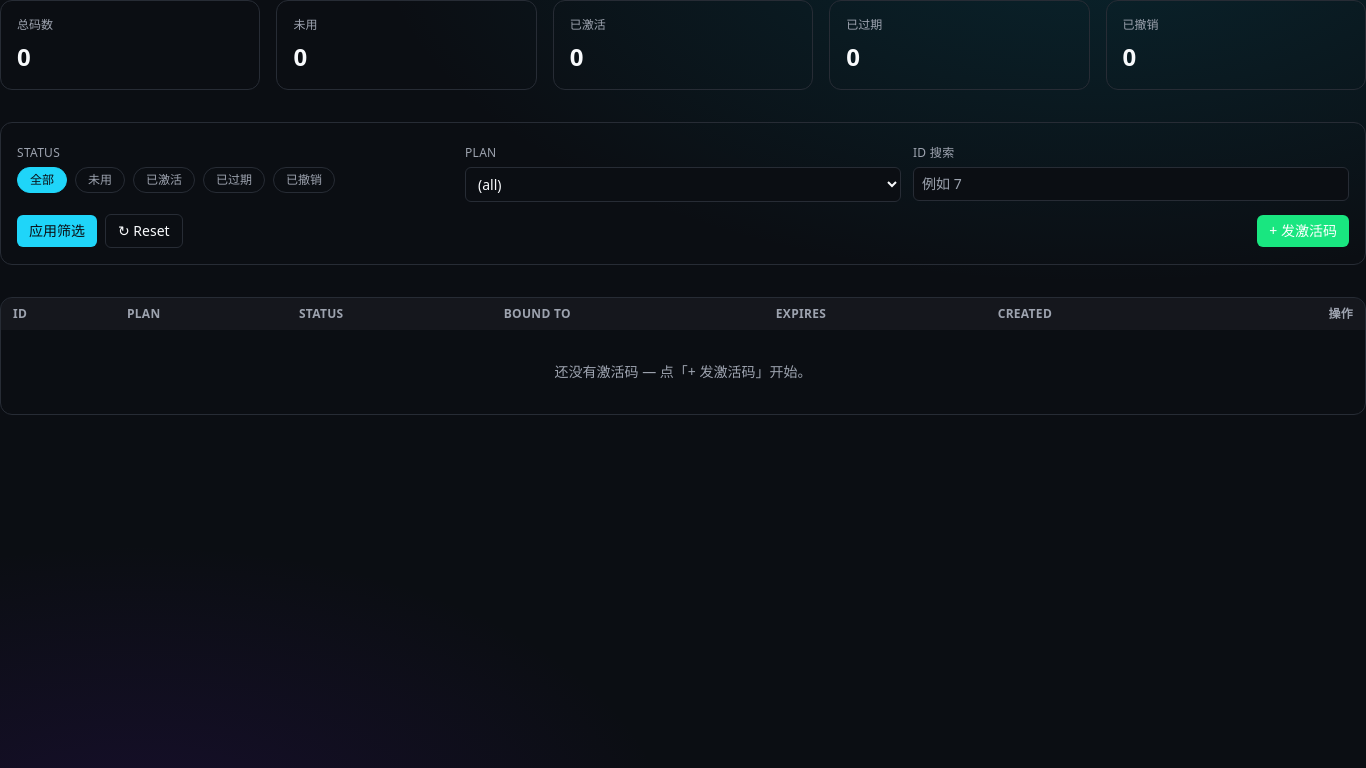
ActivationCodesPanel › Issue modal flow: open, fill form, submit, display returned code + refresh
// Open the modal.
Click the button with test id "btn-issue". click: (1303, 231)
box: top-left (1257, 215), bottom-right (1349, 247)
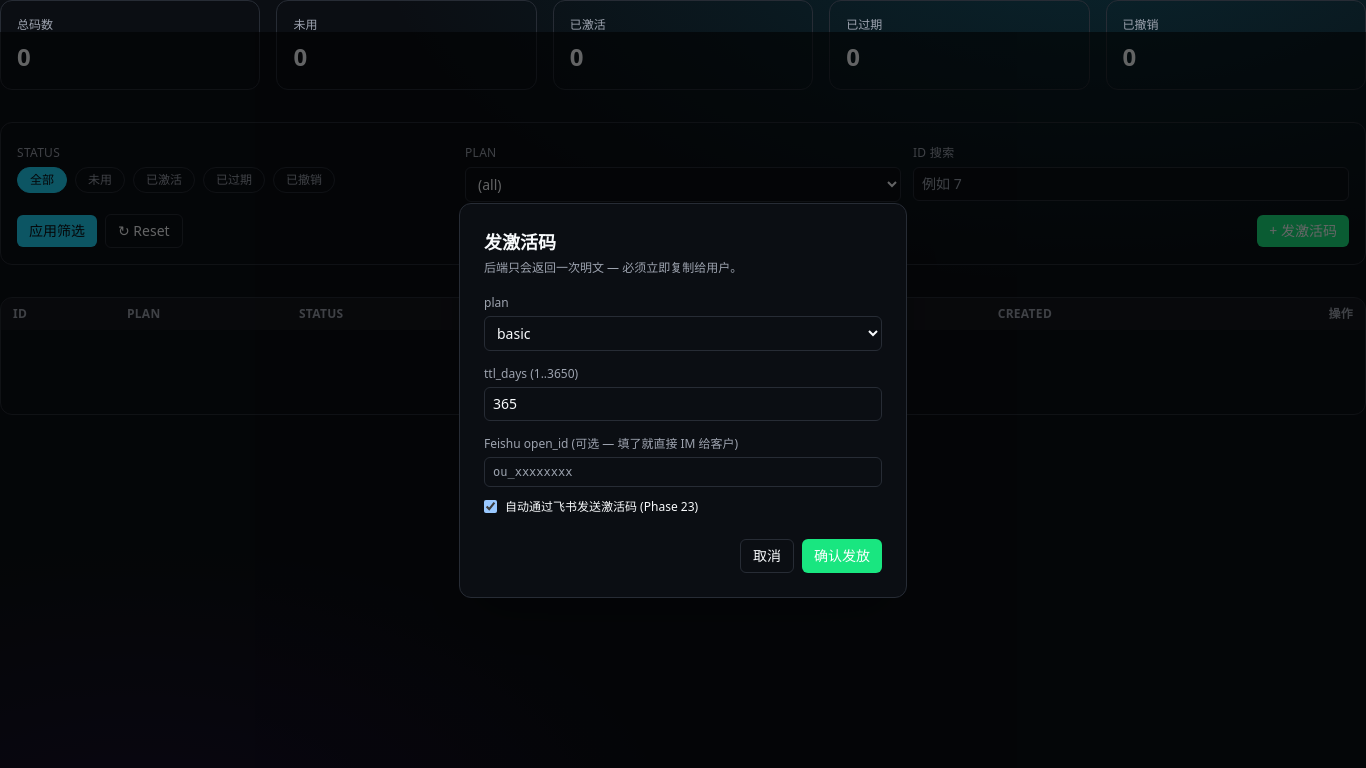
Expected: the dialog with test id "issue-modal" is shown
Select "pro" in the dropdown with test id "issue-plan". click: (683, 333)
box: top-left (484, 316), bottom-right (882, 350)
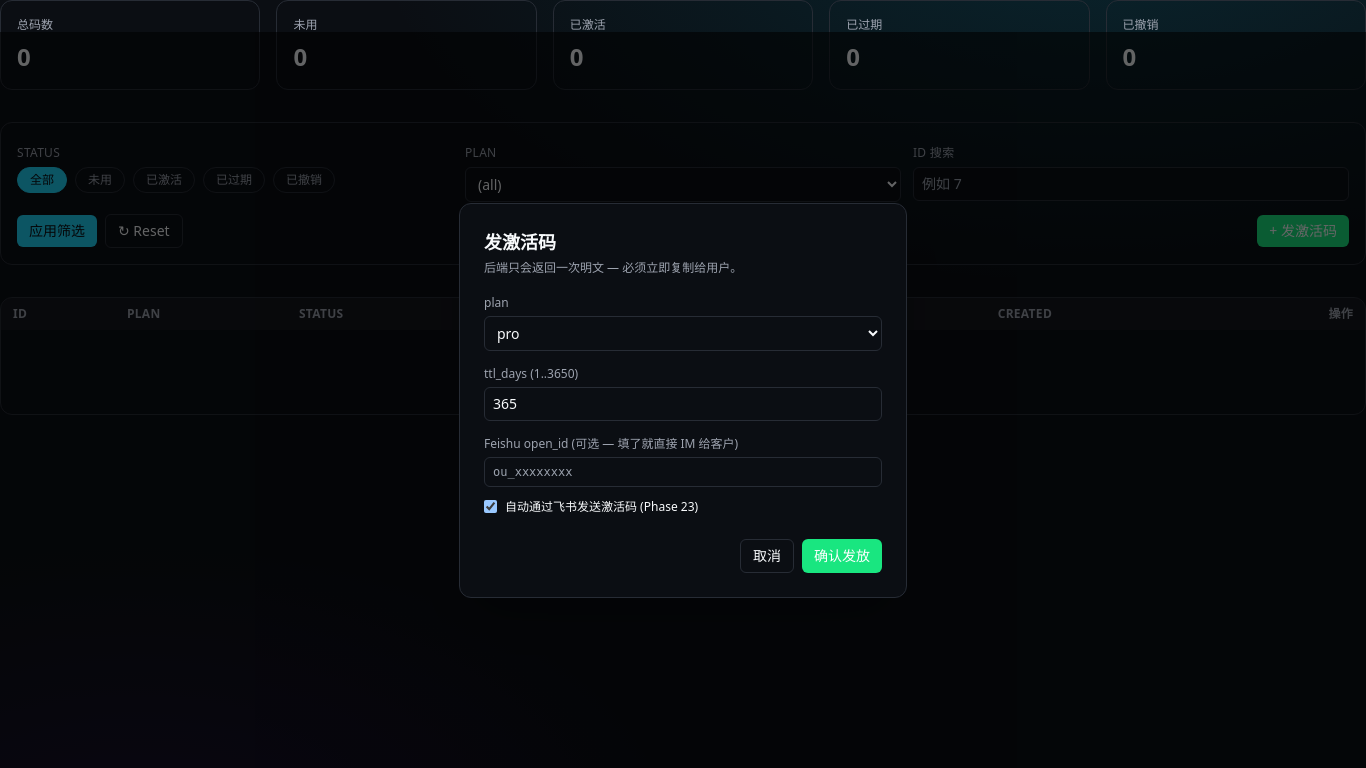
Click the button with test id "issue-submit". click: (842, 556)
box: top-left (802, 538), bottom-right (882, 572)
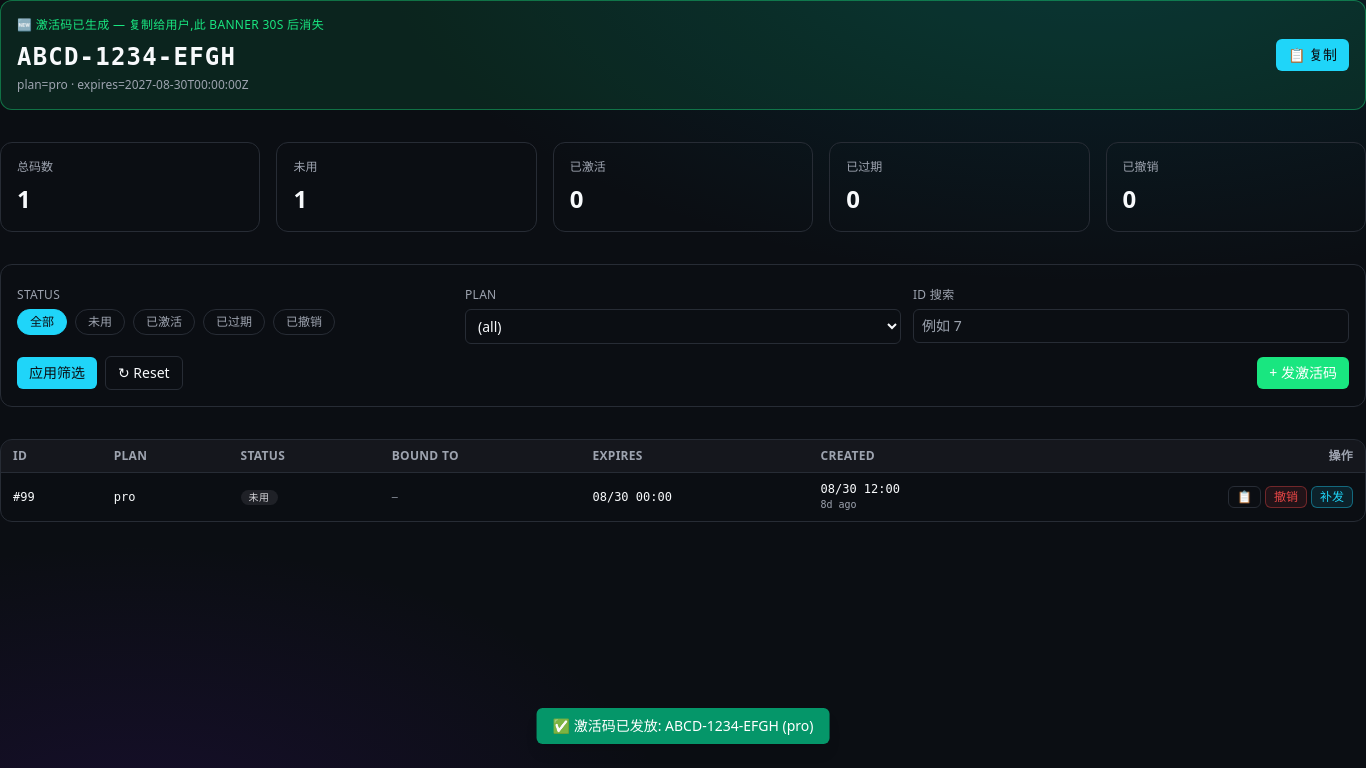
Expected: the dialog with test id "issue-modal" is gone
Expected: the message with test id "activation-banner" shows "ABCD-1234-EFGH", top-left (17, 43), bottom-right (236, 71)
Expected: the message with test id "activation-toast" shows "ABCD-1234-EFGH", top-left (552, 716), bottom-right (813, 735)
